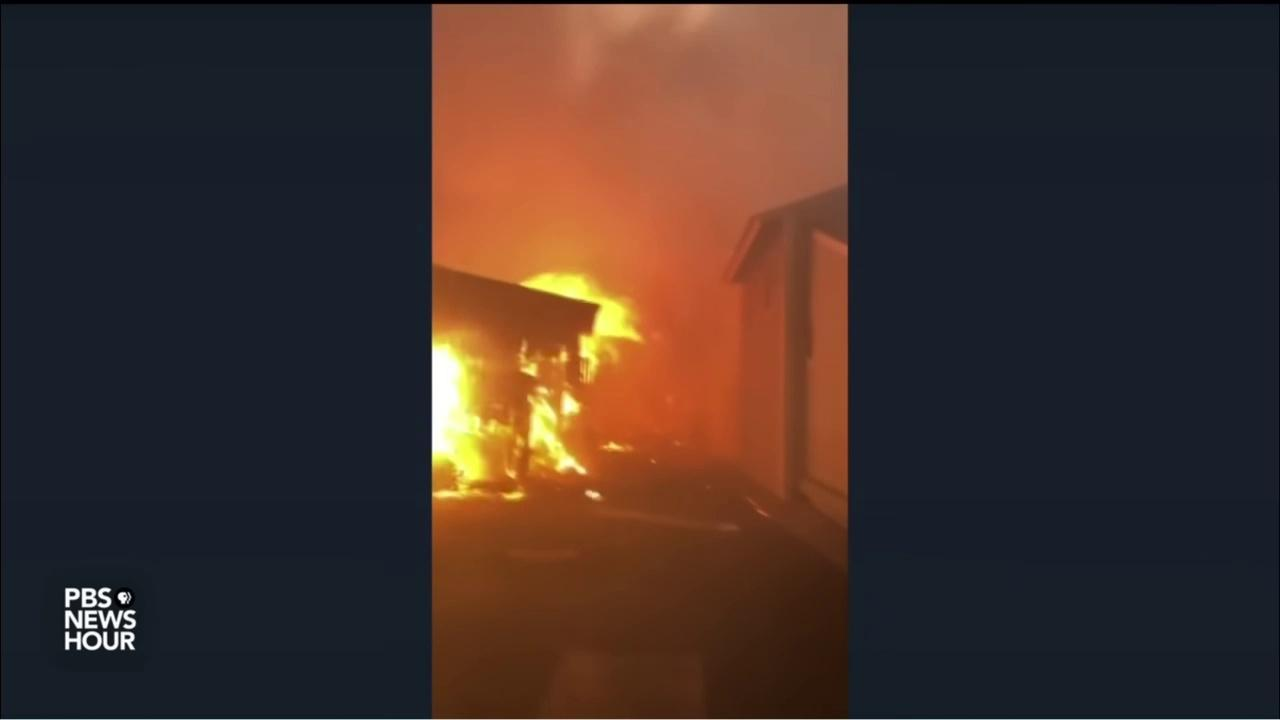fire: (433, 271, 647, 502)
smoke: (433, 3, 846, 720)
